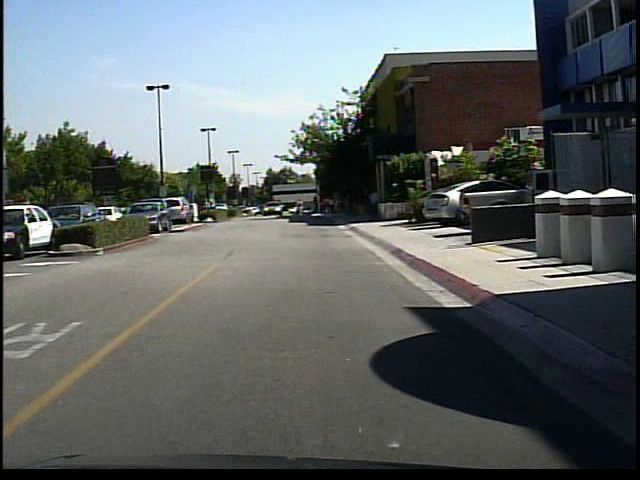person: (200, 190, 216, 218), (294, 194, 309, 221)
